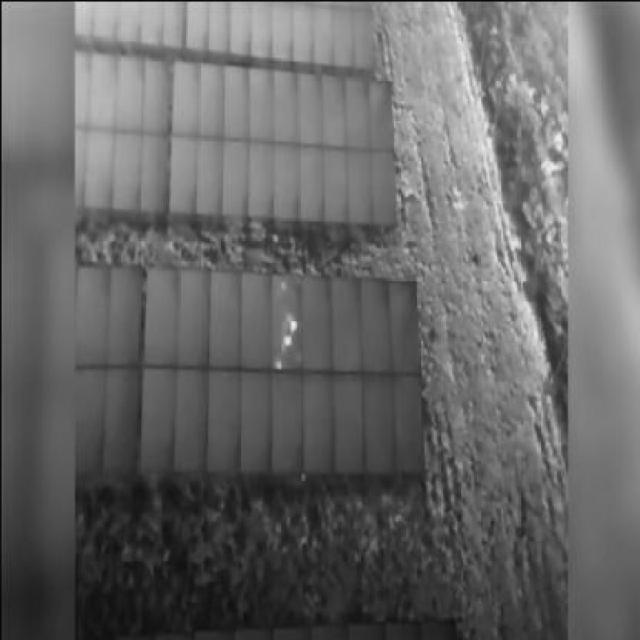hotspot: (273, 356, 281, 372), (290, 315, 298, 331), (283, 335, 289, 347)
